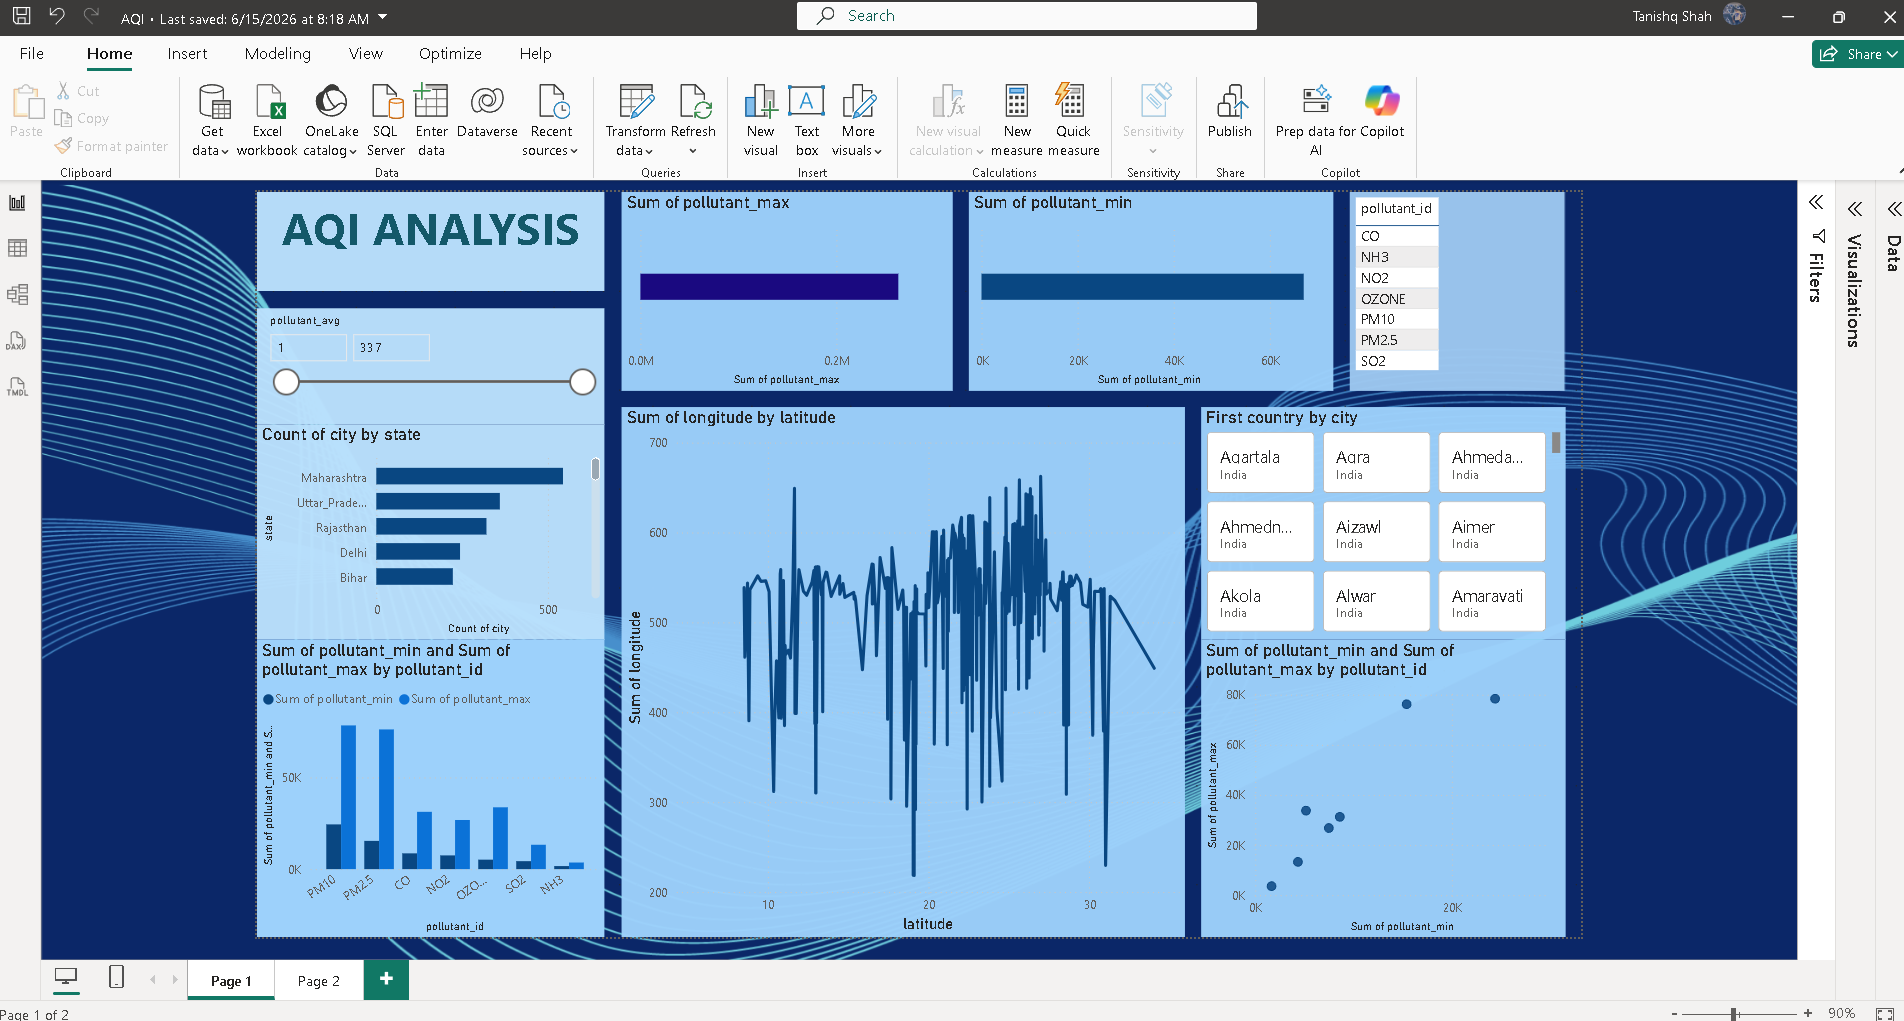

The page's visual inventory and layout, read from the dashboard file:
{"tool":"powerbi","page":{"name":"Page 1","canvas":[1280,720],"ordinal":0},"visuals":[{"type":"lineChart","fields":{"Y":["Sum(Sheet1.longitude)"],"Category":["Sheet1.latitude"]},"box":[352,208,544,512],"z":0},{"type":"tableEx","fields":{"Values":["Sheet1.pollutant_id"]},"box":[1056,0,208,192],"z":1000},{"type":"slicer","fields":{"Values":["Sheet1.pollutant_avg"]},"box":[0,112,336,112],"z":2000},{"type":"barChart","fields":{"Y":["Sum(Sheet1.pollutant_max)"]},"box":[352,0,320,192],"z":3000},{"type":"barChart","fields":{"Y":["Sum(Sheet1.pollutant_min)"]},"box":[688,0,352,192],"z":4000},{"type":"advancedSlicerVisual","fields":{"Values":["Sheet1.city"],"Label":["Min(Sheet1.country)"]},"box":[912,208,352,224],"z":5000},{"type":"barChart","fields":{"Category":["Sheet1.state"],"Y":["CountNonNull(Sheet1.city)"]},"box":[0,224,336,208],"z":6000},{"type":"clusteredColumnChart","fields":{"Category":["Sheet1.pollutant_id"],"Y":["Sum(Sheet1.pollutant_min)","Sum(Sheet1.pollutant_max)"]},"box":[0,432,336,288],"z":7000},{"type":"textbox","box":[0,0,336,96],"z":8000},{"type":"scatterChart","fields":{"Category":["Sheet1.pollutant_id"],"X":["Sum(Sheet1.pollutant_min)"],"Y":["Sum(Sheet1.pollutant_max)"]},"box":[912,432,352,288],"z":9000}]}

Visuals, with their boxes on the page's 1280x720 design canvas (x1, y1, x2, y2). These are canvas units, not pixel positions in the 1904x1021 screenshot, which may show the page scaled, cropped or inside an application window:
lineChart - Sum(Sheet1.longitude) x Sheet1.latitude: bbox(352, 208, 896, 720)
tableEx - Sheet1.pollutant_id: bbox(1056, 0, 1264, 192)
slicer - Sheet1.pollutant_avg: bbox(0, 112, 336, 224)
barChart - Sum(Sheet1.pollutant_max): bbox(352, 0, 672, 192)
barChart - Sum(Sheet1.pollutant_min): bbox(688, 0, 1040, 192)
advancedSlicerVisual - Sheet1.city x Min(Sheet1.country): bbox(912, 208, 1264, 432)
barChart - Sheet1.state x CountNonNull(Sheet1.city): bbox(0, 224, 336, 432)
clusteredColumnChart - Sheet1.pollutant_id x Sum(Sheet1.pollutant_min): bbox(0, 432, 336, 720)
textbox: bbox(0, 0, 336, 96)
scatterChart - Sheet1.pollutant_id x Sum(Sheet1.pollutant_min): bbox(912, 432, 1264, 720)
